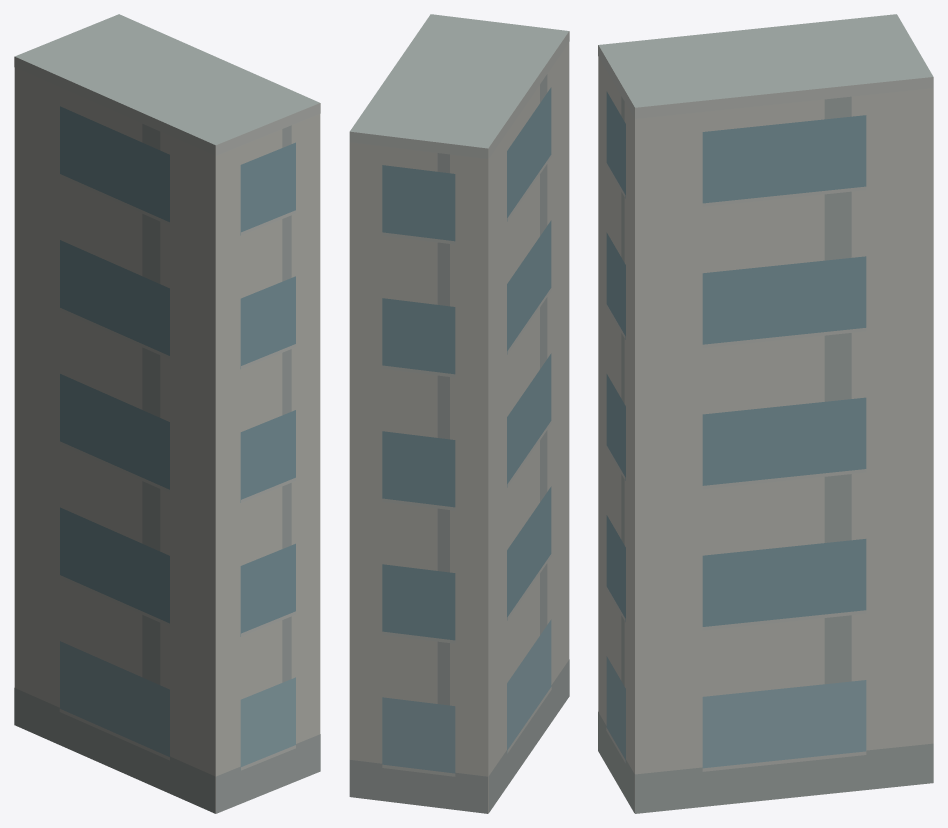
Rendered from survey-upis-32913415.glb.
The picture shows the model from 3 angles, left to right: view 1: azimuth 30°, elevation 25°; view 2: azimuth 150°, elevation 25°; view 3: azimuth 270°, elevation 25°; orthographic projection. The views are drawn at different scales.
Visible parts, largest first — view 1: survey-upis-32913415.tmp; view 2: survey-upis-32913415.tmp; view 3: survey-upis-32913415.tmp.
Part boxes in pixels (left/top/right/bottom): survey-upis-32913415.tmp: left=14, top=14, right=320, bottom=813; survey-upis-32913415.tmp: left=349, top=14, right=569, bottom=813; survey-upis-32913415.tmp: left=598, top=14, right=933, bottom=813.
Size of the model in its own units: 4.35 by 15.25 by 6.57.
